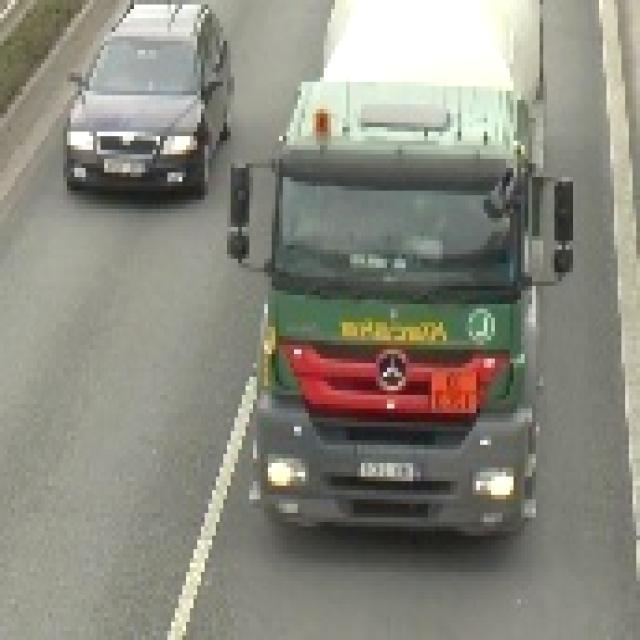truck: (221, 1, 571, 546)
